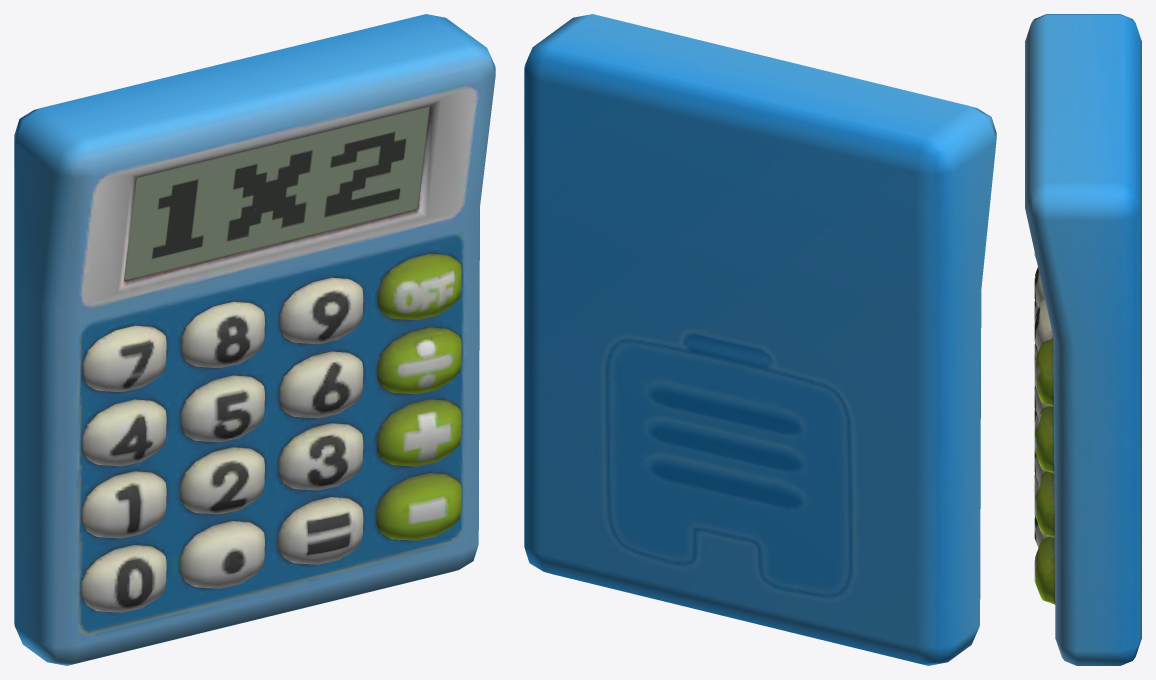
Rendered from 0-calculator_blue.fbx.
3 views of the same model, side by side, from view 1: azimuth 30°, elevation 25°; view 2: azimuth 150°, elevation 25°; view 3: azimuth 270°, elevation 25° (orthographic). The views are drawn at different scales.
Parts seen in each view (by area): view 1: 0-calculator_blue; view 2: 0-calculator_blue; view 3: 0-calculator_blue.
Part boxes in pixels (x1,y1,x2,y2): 0-calculator_blue: (14, 14, 495, 665); 0-calculator_blue: (524, 14, 996, 665); 0-calculator_blue: (1025, 14, 1141, 665).
Size of the model in its own units: 82.03 by 96.39 by 21.12.
